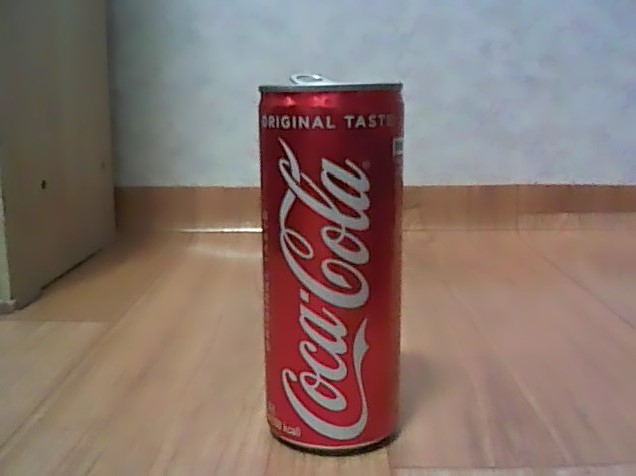Can: (251, 64, 409, 462)
